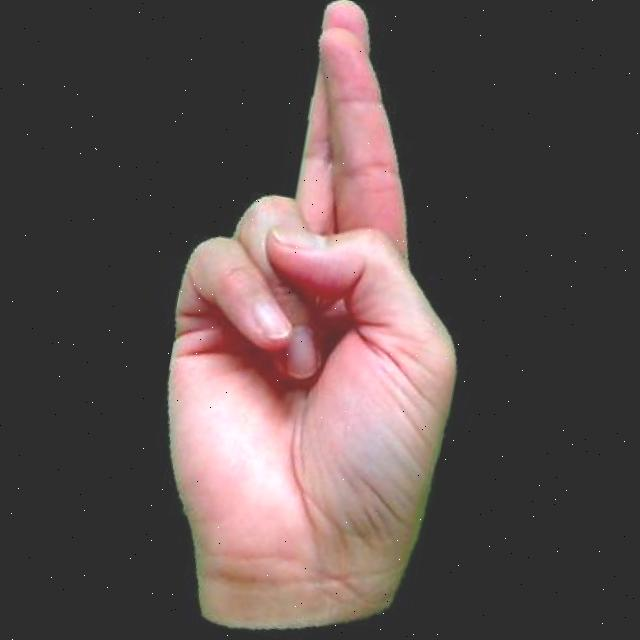r: (98, 0, 538, 640)
